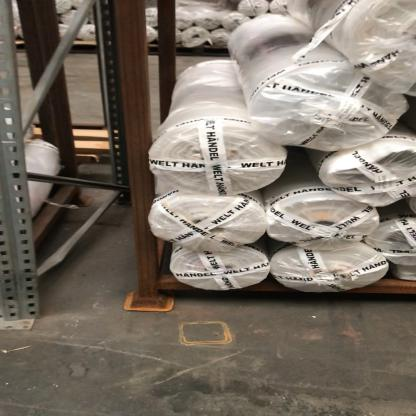vertical_damage: (5, 267, 61, 336)
